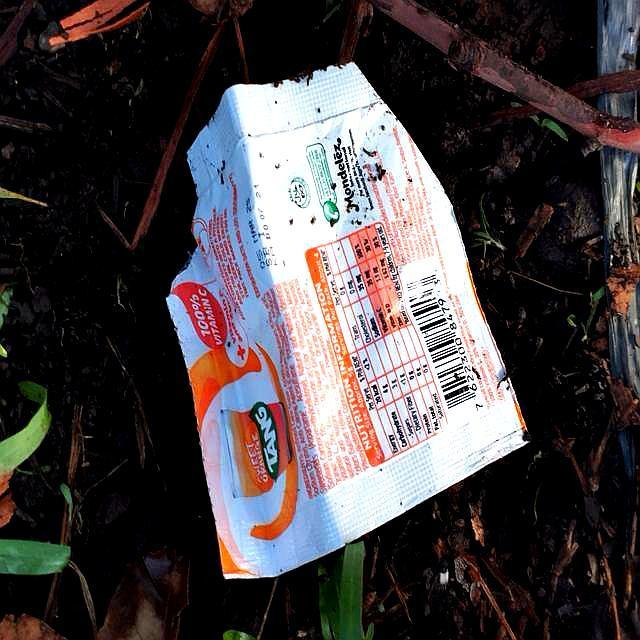Non-biodegradable: (165, 60, 533, 582)
